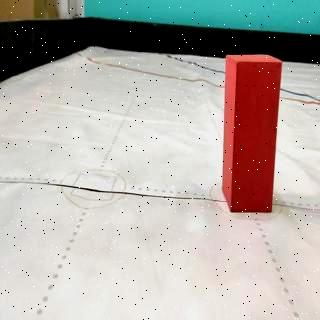redbox: (221, 52, 283, 210)
